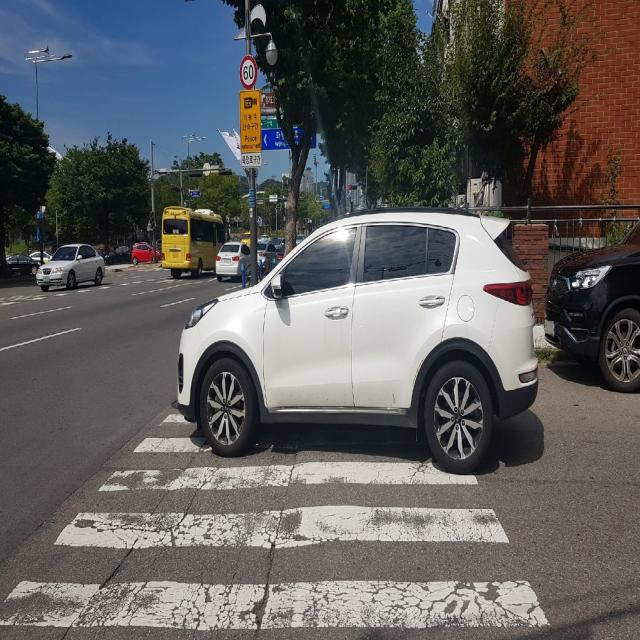횡단보도: (0, 411, 553, 634)
